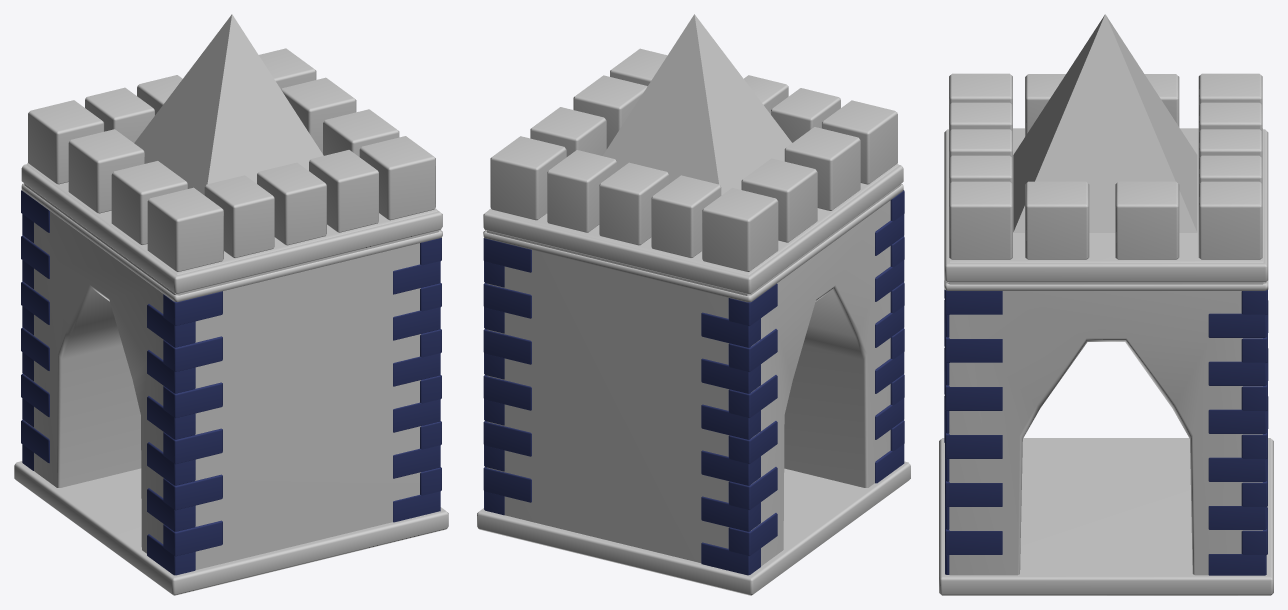
The model's file is tunnel_pointy_roof.fbx.
3 renders of one model, left to right at view 1: azimuth 30°, elevation 25°; view 2: azimuth 150°, elevation 25°; view 3: azimuth 270°, elevation 25°, orthographic. The views are drawn at different scales.
Visible parts, largest first — view 1: tunnel_pointy_roof; view 2: tunnel_pointy_roof; view 3: tunnel_pointy_roof.
Part boxes in pixels (box(x1,y1,x2,y2)): tunnel_pointy_roof: box(14, 14, 448, 595); tunnel_pointy_roof: box(477, 14, 910, 595); tunnel_pointy_roof: box(939, 14, 1273, 595).
Size of the model in its own units: 414 by 702 by 416.
